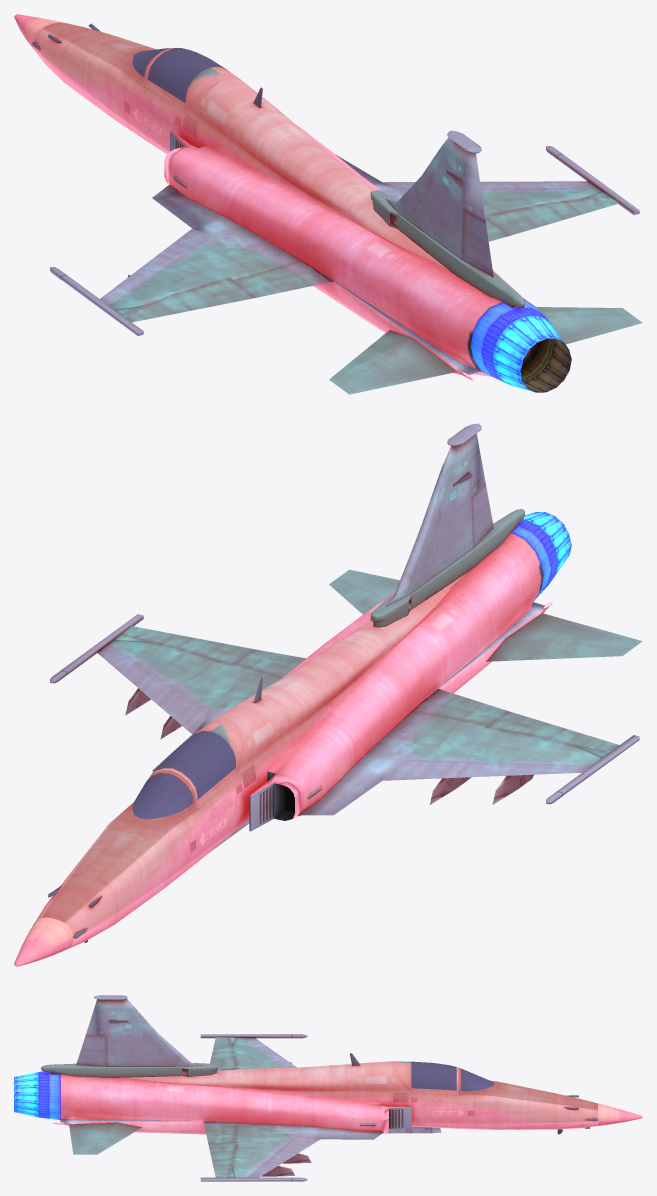
The picture shows the model from 3 angles, top to bottom: view 1: azimuth 30°, elevation 25°; view 2: azimuth 150°, elevation 25°; view 3: azimuth 270°, elevation 25°; orthographic projection. The views are drawn at different scales.
Parts seen in each view (by area): view 1: F-20_LOD0, F-20_EngineL01, F-20_ElevatorL01, F-20_Glass_Canopy01, F-20_ElevatorR01, F-20_FlapL02, F-20_VoletL01, F-20_FlapL01, F-20_FlapR01, F-20_RudderL01, F-20_Canopy01, F-20_VoletR01 (+2 smaller); view 2: F-20_LOD0, F-20_Glass_Canopy01, F-20_ElevatorL01, F-20_VoletL01, F-20_VoletR01, F-20_FlapL02, F-20_ElevatorR01, F-20_Canopy01, F-20_FlapR02, F-20_FlapL01, F-20_FlapR01, F-20_EngineL01 (+3 smaller); view 3: F-20_LOD0, F-20_Glass_Canopy01, F-20_ElevatorR01, F-20_EngineL01, F-20_VoletR01, F-20_RudderL01, F-20_Canopy01, F-20_FlapR02, F-20_FlapR01, F-20_FlapL01, F-20_VoletL01, F-20_AileronR01 (+1 smaller).
Boxes of the visible parts, x1,y1,x2,y2 form: F-20_LOD0: (14,14,639,380); F-20_EngineL01: (492,315,571,392); F-20_ElevatorL01: (329,330,456,394); F-20_Glass_Canopy01: (132,48,226,103); F-20_ElevatorR01: (536,307,642,344); F-20_FlapL02: (233,260,329,297); F-20_VoletL01: (100,228,210,305); F-20_FlapL01: (173,277,253,310); F-20_FlapR01: (485,203,565,235); F-20_RudderL01: (462,208,493,277); F-20_Canopy01: (143,48,239,112); F-20_VoletR01: (383,181,596,189); F-20_LOD0: (14,423,639,966); F-20_Glass_Canopy01: (132,731,235,818); F-20_ElevatorL01: (486,613,642,661); F-20_VoletL01: (383,760,591,780); F-20_VoletR01: (97,646,211,734); F-20_FlapL02: (412,690,509,725); F-20_ElevatorR01: (329,569,399,614); F-20_Canopy01: (149,718,243,808); F-20_FlapR02: (233,649,305,678); F-20_FlapL01: (484,711,565,739); F-20_FlapR01: (174,637,253,665); F-20_EngineL01: (523,512,571,574); F-20_LOD0: (39,995,642,1181); F-20_Glass_Canopy01: (411,1061,494,1091); F-20_ElevatorR01: (69,1122,141,1154); F-20_EngineL01: (14,1072,38,1117); F-20_VoletR01: (247,1135,320,1177); F-20_RudderL01: (76,1034,106,1066); F-20_Canopy01: (391,1061,458,1095); F-20_FlapR02: (204,1122,238,1143); F-20_FlapR01: (208,1142,238,1161); F-20_FlapL01: (210,1051,238,1069); F-20_VoletL01: (245,1038,296,1067); F-20_AileronR01: (212,1160,233,1177).
Size of the model in its own units: 7.8 by 3.45 by 14.28.
4 materials, 4 textured.
